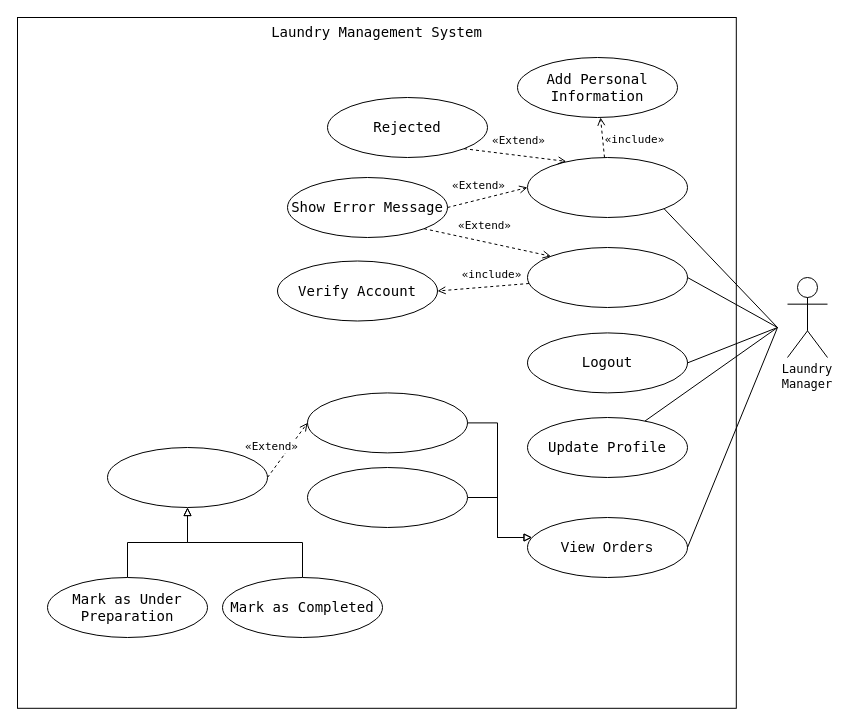
The diagram is 855 pixels wide and 726 high, and some of its shapes have lost their labels. The shapes that lost their labels are listed below. From the top down, each one's centre as x and y in pixels, then its label:
At [607,187]: "Register".
At [607,277]: "Login".
At [387,422]: "View Current Orders".
At [187,477]: "Update Laundry Status".
At [387,497]: "View Previous Orders".
